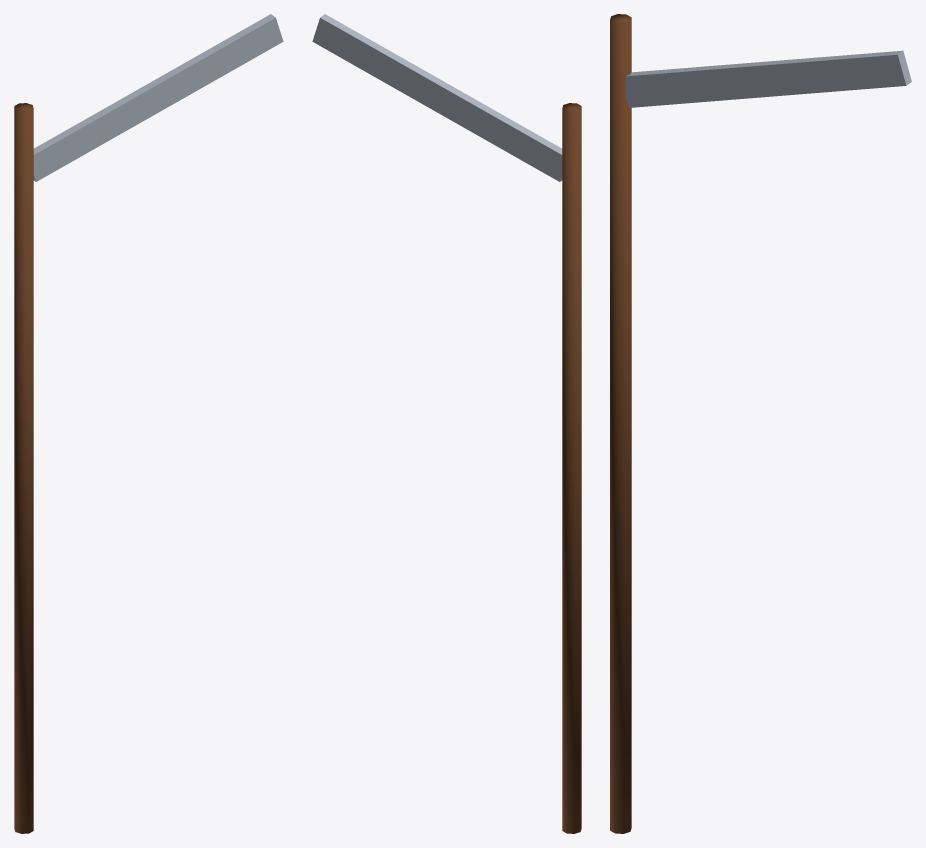
Rendered from scythe.glb.
The picture shows the model from 3 angles, left to right: view 1: azimuth 30°, elevation 25°; view 2: azimuth 150°, elevation 25°; view 3: azimuth 330°, elevation 25°; orthographic projection. The views are drawn at different scales.
Parts seen in each view (by area): view 1: scythe; view 2: scythe; view 3: scythe.
Part boxes in pixels (box(x1,y1,x2,y2)): scythe: box(14, 14, 283, 833); scythe: box(312, 14, 581, 833); scythe: box(610, 14, 911, 833).
Bounding box in the file's own units: 0.6155 × 1.67 × 0.04.
